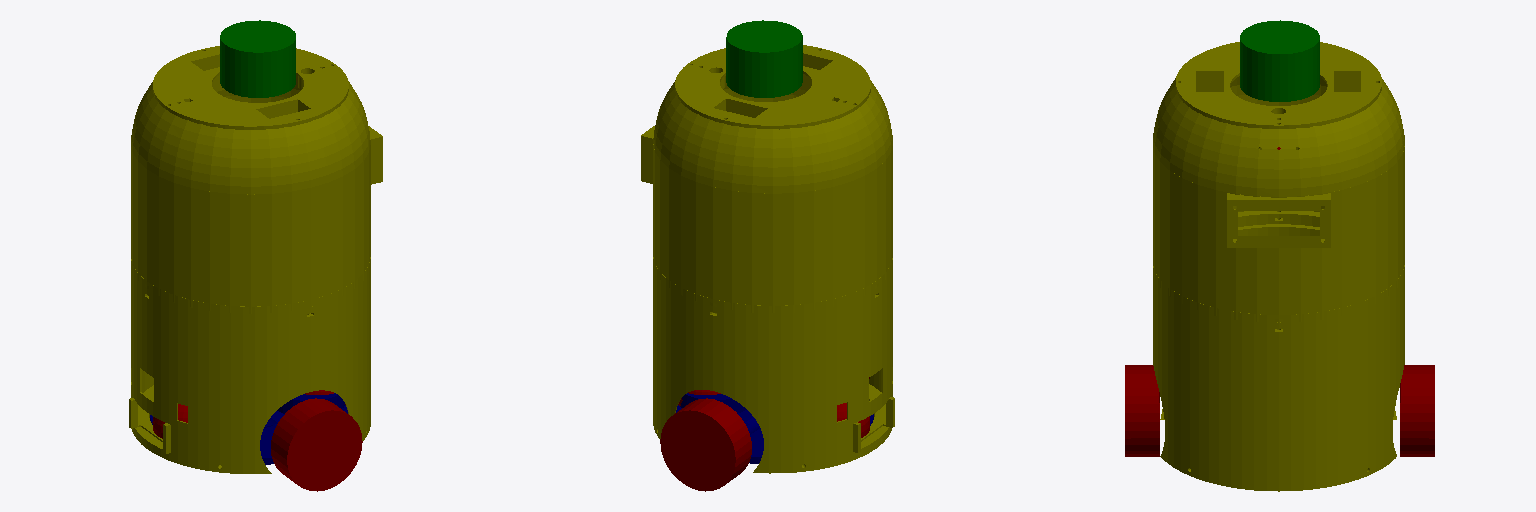
The robot description file, URDF, robot "robot":
<?xml version="1.0"?>	
<robot name="robot">

  <!--===== Defining all colours here =====-->
  <material name="Orange">
    <color rgba="0.5 0.2 0.0 1" />
  </material>
  <material name="Yellow">
    <color rgba="0.5 0.5 0.0 1" />
  </material>
  <material name="Red">
    <color rgba="0.5 0.0 0.0 1" />
  </material>
  <material name="Blue">
    <color rgba="0.0 0.0 0.4 1" />
  </material>
  <material name="Green">
    <color rgba="0.0 0.4 0.0 1" />
  </material>
  <material name="White">
    <color rgba="1 1 1 1" />
  </material>

  <!--BASE FOOTPRINT-->
  <link name="base_footprint" />

  <!--========================================== BASE LINK ==========================================-->
  <link name="base_link">
    <inertial>
      <origin xyz="0 0 0" rpy="0 0 0" />
      <mass value="70.0" />
      <inertia ixx="0.079945" ixy="0.00012078" ixz="0.00015606" iyy="0.068406" iyz="-0.0049053" izz="0.12343" />
    </inertial>
  <visual>
    <origin xyz="0 0 -0.015" rpy="0 0 -1.57" />
    <geometry>
      <mesh filename="package://my_robot_model/urdf/meshes/Base_Plate.stl" scale="0.001 0.001 0.001"/>
    </geometry>
    <material name="Blue" />
  </visual>
  <collision>
    <origin xyz="0 0 -0.015" rpy="0 0 -1.57" />
    <geometry>
      <mesh filename="package://my_robot_model/urdf/meshes/Base_Plate.stl" scale="0.001 0.001 0.001"/>
    </geometry>
  </collision>
  </link>


  <!--========================================== BASE JOINT ==========================================-->
  <joint name="base_joint" type="fixed">
    <origin xyz="0 0 0.05335" rpy="0 0 0" />
    <parent link="base_footprint" />
    <child link="base_link" />
    <axis xyz="0 0 0" />
  </joint>


  <!--========================================== ROBOT BODY LINK ==========================================-->
  <link name="robot_body_link">
    <inertial>
      <origin xyz="0 0 0" rpy="0 0 0" />
      <mass value="70.0" />
      <inertia ixx="0.079945" ixy="0.00012078" ixz="0.00015606" iyy="0.068406" iyz="-0.0049053" izz="0.12343" />
    </inertial>
  <visual>
    <origin xyz="0.0 0 -0.19125" rpy="0 0 -1.57" />
    <geometry>
      <mesh filename="package://my_robot_model/urdf/meshes/Robot_Cover_Full.stl" scale="0.001 0.001 0.001"/>
    </geometry>
    <material name="Yellow" />
  </visual>
  <collision>
    <origin xyz="0.0 0 -0.19125" rpy="0 0 -1.57" />
    <geometry>
      <mesh filename="package://my_robot_model/urdf/meshes/Robot_Cover_Full.stl" scale="0.001 0.001 0.001"/>
    </geometry>
  </collision>
  </link>

  <!--========================================== ROBOT BODY JOINT ==========================================-->
  <joint name="robot_body_joint" type="fixed">
    <origin xyz="0 0 0.175" rpy="0 0 0" />
    <parent link="base_link" />
    <child link="robot_body_link" />
    <axis xyz="0 0 0" />
  </joint>

  <!--========================================== RIGHT WHEEL LINK ==========================================-->
  <link name="right_wheel_link">
    <inertial>
      <origin xyz="0.0 0.0 0.0" rpy="0 0 0" />
      <mass value="0.50917" />
      <inertia ixx="0.0012185" ixy="1.8059E-20" ixz="3.0427E-20" iyy="0.0012185" iyz="-4.0491E-20" izz="0.0022928" />
    </inertial>
    <visual>
      <origin xyz="0 0 0" rpy="0 0 0" />
      <geometry>
        <cylinder length="0.03" radius="0.04" />
      </geometry>
      <material name="Red" />
    </visual>
    <collision>
      <origin xyz="0 0 0" rpy="0 0 0" />
      <geometry>
        <cylinder length="0.03" radius="0.04" />
      </geometry>
    </collision>
  </link>

  <!--========================================== RIGHT WHEEL JOINT ==========================================-->
  <joint name="right_wheel_joint" type="continuous">
    <origin xyz="0.0 -0.12 0.01" rpy="1.571 0 0" />
    <parent link="base_link" />
    <child link="right_wheel_link" />
    <axis xyz="0 0 -1" />
  </joint>

  <!--transmission name="right_wheel_trans" type="SimpleTransmission">
    <type>transmission_interface/SimpleTransmission</type>
    <actuator name="right_wheel_motor">
      <mechanicalReduction>1</mechanicalReduction>
    </actuator>
    <joint name="right_wheel_joint">
      <hardwareInterface>VelocityJointInterface</hardwareInterface>
    </joint>
  </transmission-->




  <!--========================================== LEFT WHEEL LINK ==========================================-->
  <link name="left_wheel_link">
    <inertial>
      <origin xyz="0.0 0.0 0.0" rpy="0 0 0" />
      <mass value="0.50917" />
      <inertia ixx="0.0012185" ixy="1.8059E-20" ixz="3.0427E-20" iyy="0.0012185" iyz="-4.0491E-20" izz="0.0022928" />
    </inertial>
    <visual>
      <origin xyz="0 0 0" rpy="0 0 0" />
      <geometry>
        <cylinder length="0.03" radius="0.04" />
      </geometry>
      <material name="Red" />
    </visual>
    <collision>
      <origin xyz="0 0 0" rpy="0 0 0" />
      <geometry>
        <cylinder length="0.03" radius="0.04" />
      </geometry>
    </collision>
  </link>

  <!--========================================== LEFT WHEEL JOINT ==========================================-->
  <joint name="left_wheel_joint" type="continuous">
    <origin xyz="0.0 0.12 0.01" rpy="-1.571 0 0" />
    <parent link="base_link" />
    <child link="left_wheel_link" />
    <axis xyz="0 0 1" />
  </joint>

  <!--transmission name="left_wheel_trans" type="SimpleTransmission">
    <type>transmission_interface/SimpleTransmission</type>
    <actuator name="left_wheel_motor">
      <mechanicalReduction>1</mechanicalReduction>
    </actuator>
    <joint name="left_wheel_joint">
      <hardwareInterface>VelocityJointInterface</hardwareInterface>
    </joint>
  </transmission-->




  <!--=============================================== FRONT CASTOR WHEEL LINK ===============================================-->
  <link name="front_castor_wheel_link">
    <inertial>
      <origin xyz="0.0 0.0 0.0" rpy="0 0 0" />
      <mass value="0.50917" />
      <inertia ixx="0.0012185" ixy="1.8059E-20" ixz="3.0427E-20" iyy="0.0012185" iyz="-4.0491E-20" izz="0.0022928" />
    </inertial>
    <visual>
      <origin xyz="0 0 0" rpy="0 0 0" />
      <geometry>
        <sphere radius="0.03" />
      </geometry>
      <material name="Red" />
    </visual>
    <collision>
      <origin xyz="0 0 0" rpy="0 0 0" />
      <geometry>
        <sphere radius="0.03" />
      </geometry>
    </collision>
  </link>

  <!--============================================ FRONT CASTOR WHEEL JOINT ============================================-->
  <joint name="front_castor_wheel_joint" type="continuous">
    <origin xyz="0.07 0.0 0.0" rpy="0 0 0" />
    <parent link="base_link" />
    <child link="front_castor_wheel_link" />
    <axis xyz="0 1 1" />
  </joint>


  <!--=============================================== REAR CASTOR WHEEL LINK ===============================================-->
  <link name="rear_castor_wheel_link">
    <inertial>
      <origin xyz="0.0 0.0 0.0" rpy="0 0 0" />
      <mass value="0.50917" />
      <inertia ixx="0.0012185" ixy="1.8059E-20" ixz="3.0427E-20" iyy="0.0012185" iyz="-4.0491E-20" izz="0.0022928" />
    </inertial>
    <visual>
      <origin xyz="0 0 0" rpy="0 0 0" />
      <geometry>
        <sphere radius="0.03" />
      </geometry>
      <material name="Red" />
    </visual>
    <collision>
      <origin xyz="0 0 0" rpy="0 0 0" />
      <geometry>
        <sphere radius="0.03" />
      </geometry>
    </collision>
  </link>

  <!--============================================ REAR CASTOR WHEEL JOINT ============================================-->
  <joint name="rear_castor_wheel_joint" type="continuous">
    <origin xyz="-0.07 0.0 0.0" rpy="0 0 0" />
    <parent link="base_link" />
    <child link="rear_castor_wheel_link" />
    <axis xyz="0 1 1" />
  </joint>


  <!--========================================== LASER LINK ==========================================-->
  <link name="laser_link">
    <inertial>
      <origin xyz="0 0 0" rpy="0 0 0" />
      <mass value="0.0093378" />
      <inertia ixx="0" ixy="0" ixz="0" iyy="0" iyz="0" izz="0" /> 
    </inertial>
    <visual>
      <origin xyz="0 0 0" rpy="0 0 0" />
      <geometry>
        <cylinder length="0.046" radius="0.035" />
      </geometry>
      <material name="Green" />
    </visual>
    <collision>
      <origin xyz="0 0 0" rpy="0 0 0" />
      <geometry>
        <cylinder length="0.046" radius="0.035" />
      </geometry>
    </collision>
  </link>

  <!--========================================== LASER JOINT ==========================================-->
  <joint name="laser_joint" type="fixed">
    <origin xyz="0.0075 0.0 0.35" rpy="0 0 3.14" />
    <parent link="base_link" />
    <child link="laser_link" />
    <axis xyz="0 0 0" />
  </joint>

    <!--========================================== IMU LINK ==========================================-->
  <link name="imu_link">
    <inertial>
      <origin xyz="0 0 0" rpy="0 0 0" />
      <mass value="0.0093378" />
      <inertia ixx="0" ixy="0" ixz="0" iyy="0" iyz="0" izz="0" /> 
    </inertial>
    <visual>
      <origin xyz="0 0 0" rpy="0 0 0" />
      <geometry>
        <box size="0.05 0.01 0.02"/>
      </geometry>
      <material name="Red" />
    </visual>
    <collision>
      <origin xyz="0 0 0" rpy="0 0 0" />
      <geometry>
        <box size="0.05 0.01 0.02"/>
      </geometry>
    </collision>
  </link>

  <!--========================================== IMU JOINT ==========================================-->
  <joint name="imu_joint" type="fixed">
    <origin xyz="0.0075 0.0 0.25" rpy="0 0 3.14" />
    <parent link="base_link" />
    <child link="imu_link" />
    <axis xyz="0 0 0" />
  </joint>


  <!--========================================== GAZEBO TAGS ==========================================-->
  <gazebo reference="base_link">
    <material>Gazebo/Blue</material>
  </gazebo>
  
  <gazebo reference="robot_body_link">
    <material>Gazebo/Orange</material>
  </gazebo>

  <gazebo reference="right_wheel_link">
    <material>Gazebo/Red</material>
  </gazebo>

  <gazebo reference="left_wheel_link">
    <material>Gazebo/Red</material>
  </gazebo>

  <gazebo reference="front_castor_wheel_link">
    <material>Gazebo/Red</material>
  </gazebo>
  
  <gazebo reference="rear_castor_wheel_link">
    <material>Gazebo/Red</material>
  </gazebo>

  <gazebo reference="laser_link">
    <material>Gazebo/Green</material>
  </gazebo>


  <!--============================================= IMU PLUGIN - GAZEBO =============================================-->
  <gazebo reference="imu_link">
    <gravity>true</gravity>
    <sensor name="imu_sensor" type="imu">
      <always_on>true</always_on>
      <update_rate>100</update_rate>
      <visualize>true</visualize>
      <topic>__default_topic__</topic>
      <plugin filename="libgazebo_ros_imu_sensor.so" name="imu_plugin">
        <topicName>imu_data</topicName>
        <bodyName>imu_link</bodyName>
        <updateRateHZ>10.0</updateRateHZ>
        <gaussianNoise>0.0</gaussianNoise>
        <xyzOffset>0 0 0</xyzOffset>
        <rpyOffset>0 0 0</rpyOffset>
        <frameName>imu_link</frameName>
        <initialOrientationAsReference>false</initialOrientationAsReference>
      </plugin>
      <pose>0 0 0 0 0 0</pose>
    </sensor>
  </gazebo>

  <!--========================================== DIFF DRIVE PLUGIN - GAZEBO ==========================================-->

	<gazebo>
	  <plugin name="differential_drive_controller" filename="libgazebo_ros_diff_drive.so">
		<!-- Plugin update rate in Hz -->
		<updateRate>10</updateRate>
		<!-- Name of left joint, defaults to `left_joint` -->
		<leftJoint>left_wheel_joint</leftJoint>
		<!-- Name of right joint, defaults to `right_joint` -->
		<rightJoint>right_wheel_joint</rightJoint>
		<!-- The distance from the center of one wheel to the other, in meters, defaults to 0.34 m -->
		<wheelSeparation>0.23</wheelSeparation>
		<!-- Diameter of the wheels, in meters, defaults to 0.15 m -->
		<wheelDiameter>0.085</wheelDiameter>
		<!-- Wheel acceleration, in rad/s^2, defaults to 0.0 rad/s^2 -->
		<wheelAcceleration>0.75</wheelAcceleration>
		<!-- Maximum torque which the wheels can produce, in Nm, defaults to 5 Nm -->
		<wheelTorque>500</wheelTorque>
		<!-- Topic to receive geometry_msgs/Twist message commands, defaults to `cmd_vel` -->
		<commandTopic>cmd_vel</commandTopic>
		<!-- Topic to publish nav_msgs/Odometry messages, defaults to `odom` -->
		<odometryTopic>odom_diff_drive</odometryTopic>
		<!-- Odometry frame, defaults to `odom` -->
		<odometryFrame>odom_diff_drive</odometryFrame>
		<!-- Robot frame to calculate odometry from, defaults to `base_footprint` -->
		<robotBaseFrame>base_footprint</robotBaseFrame>
		<!-- Odometry source, 0 for ENCODER, 1 for WORLD, defaults to WORLD -->
		<odometrySource>1</odometrySource>
		<!-- Set to true to publish transforms for the wheel links, defaults to false -->
		<publishWheelTF>false</publishWheelTF>
		<!-- Set to true to publish transforms for the odometry, defaults to true -->
		<publishOdom>true</publishOdom>
		<publishOdomTF>false</publishOdomTF>
		<!--publishTF>false</publishTF-->

		<!-- Set to true to publish sensor_msgs/JointState on /joint_states for the wheel joints, defaults to false -->
		<publishWheelJointState>false</publishWheelJointState>
		<!-- Set to true to swap right and left wheels, defaults to true -->
		<legacyMode>false</legacyMode>
	  </plugin>
	</gazebo>



  <!--========================================== LIDAR PLUGIN - GAZEBO ==========================================-->
  <!--Sample size of 4000 (original value of RPLidarA1M8) gives an error-->
  <gazebo reference="laser_link">
      <!--sensor type="gpu_ray" name="laser"-->
      <sensor type="ray" name="laser">
          <pose>0 0 0 0 0 0</pose>
          <visualize>true</visualize>
          <update_rate>40</update_rate>
          <ray>
              <scan>
                  <horizontal>
                      <samples>720</samples>
                      <resolution>1</resolution>
                      <min_angle>0</min_angle>
                      <max_angle>6.28</max_angle>
                  </horizontal>
              </scan>
              <range>
                  <min>0.1</min>
                  <max>6</max>
                  <resolution>0.1</resolution>
              </range>
          </ray>
          <!--plugin name="gpu_laser" filename="libgazebo_ros_gpu_laser.so"-->
          <plugin name="gpu_laser" filename="libgazebo_ros_laser.so">
              <topicName>/scan</topicName>
              <frameName>laser_link</frameName>
          </plugin>
      </sensor>
  </gazebo>




  <!--========================================== JOINT STATE PUBLISHER PLUGIN - GAZEBO ==========================================-->
     <!--gazebo>
        <plugin name="joint_state_publisher"
                filename="libgazebo_ros_joint_state_publisher.so">
            <jointName>left_wheel_joint, right_wheel_joint, castor_wheel_joint</jointName>
        </plugin>
    </gazebo-->


</robot>

--- What the picture shows (computed from the rendered views, not written in the file) ---
The picture shows the robot from 3 angles, left to right: view 1: azimuth 30°, elevation 25°; view 2: azimuth 150°, elevation 25°; view 3: azimuth 270°, elevation 25°; orthographic projection.
Model robot with 9 links and 8 joints (4 continuous, 4 fixed), rooted at base_footprint, posed every joint at zero.
Visible links, largest first — view 1: robot_body_link, right_wheel_link, laser_link, base_link; view 2: robot_body_link, left_wheel_link, laser_link, base_link; view 3: robot_body_link, laser_link, left_wheel_link, right_wheel_link.
Boxes of the visible links, bbox=[...] form: robot_body_link: bbox=[129, 46, 382, 473]; right_wheel_link: bbox=[271, 398, 362, 491]; laser_link: bbox=[220, 20, 295, 97]; base_link: bbox=[150, 393, 347, 464]; robot_body_link: bbox=[641, 45, 894, 473]; left_wheel_link: bbox=[660, 398, 751, 491]; laser_link: bbox=[726, 20, 802, 97]; base_link: bbox=[676, 393, 873, 463]; robot_body_link: bbox=[1153, 42, 1404, 491]; laser_link: bbox=[1240, 20, 1319, 101]; left_wheel_link: bbox=[1400, 365, 1434, 456]; right_wheel_link: bbox=[1125, 365, 1159, 456].
Bounding box of the posed robot: 0.224 × 0.27 × 0.403 m (x, y, z).
2 mesh visuals loaded from 2 distinct referenced files (2 binary STL).
